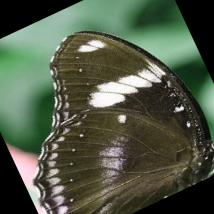butterfly: (34, 31, 214, 214)
